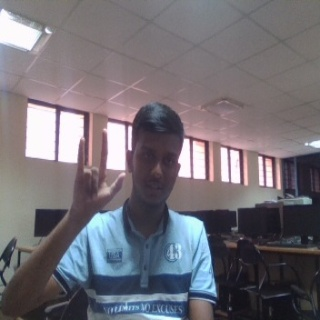Face: (127, 100, 185, 209)
I Love You: (70, 126, 127, 220)
